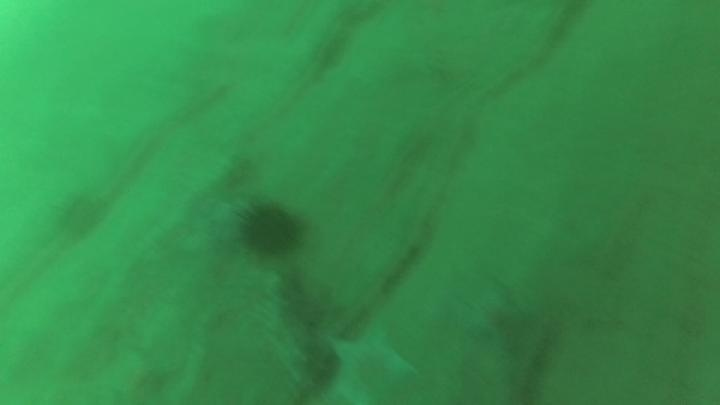echinus: (234, 197, 308, 261), (53, 190, 108, 242)
starfish: (320, 320, 420, 405)
